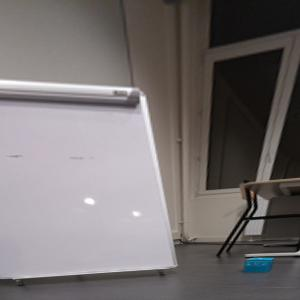big: (1, 84, 174, 284)
small: (244, 258, 273, 274)
